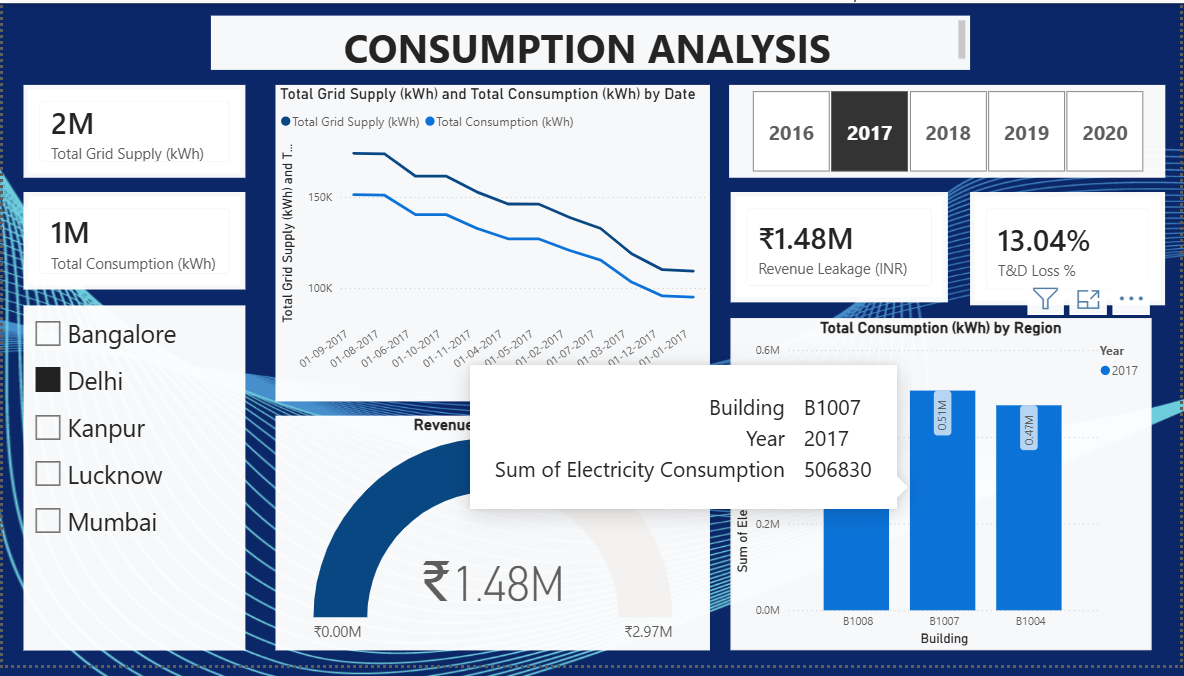

The page's visual inventory and layout, read from the dashboard file:
{"tool":"powerbi","page":{"name":"Page 1","canvas":[1280,720],"ordinal":0},"visuals":[{"type":"slicer","fields":{"Values":["Rates.Year"]},"box":[789.4,89,474.3,101],"z":0},{"type":"slicer","fields":{"Values":["Building Master.City"]},"box":[22.3,328.8,241.4,375],"z":1},{"type":"cardVisual","fields":{"Data":["Measures (2).Total Grid Supply (kWh)"]},"box":[22.3,89,241.4,101],"z":2},{"type":"cardVisual","fields":{"Data":["Measures (2).Total Consumption (kWh)"]},"box":[22.3,205.5,241.4,106.2],"z":3},{"type":"cardVisual","fields":{"Data":["Measures (2).T&D Loss %"]},"box":[1051.4,205.5,212.3,123.3],"z":4},{"type":"cardVisual","fields":{"Data":["Measures (2).Revenue Leakage (INR)"]},"box":[791.1,205.5,236.3,119.9],"z":5},{"type":"lineChart","fields":{"Category":["Energy Consumptions.Date"],"Y":["Measures (2).Total Grid Supply (kWh)","Measures (2).Total Consumption (kWh)"]},"box":[296.2,89,472.6,344.2],"z":6},{"type":"gauge","fields":{"Y":["Measures (2).Revenue Leakage (INR)"]},"box":[296.2,448.6,472.6,255.1],"z":7},{"type":"lineClusteredColumnComboChart","title":"Total Consumption (kWh) by Region","fields":{"Category":["Energy Consumptions.Building"],"Y":["Sum(Energy Consumptions.Electricity Consumption)"],"Series":["Energy Consumptions.Year"]},"box":[791.1,342.5,457.2,361.3],"z":8},{"type":"textbox","box":[226.5,13.8,825.4,59.1],"z":9}]}

Visuals, with their boxes in screenshot pixels (x1, y1, x2, y2), scaled from the page's 1280x720 canvas onto the 1184x676 screenshot:
slicer - Rates.Year: {"left": 730, "top": 84, "right": 1169, "bottom": 178}
slicer - Building Master.City: {"left": 21, "top": 309, "right": 244, "bottom": 661}
cardVisual - Measures (2).Total Grid Supply (kWh): {"left": 21, "top": 84, "right": 244, "bottom": 178}
cardVisual - Measures (2).Total Consumption (kWh): {"left": 21, "top": 193, "right": 244, "bottom": 293}
cardVisual - Measures (2).T&D Loss %: {"left": 973, "top": 193, "right": 1169, "bottom": 309}
cardVisual - Measures (2).Revenue Leakage (INR): {"left": 732, "top": 193, "right": 950, "bottom": 306}
lineChart - Energy Consumptions.Date x Measures (2).Total Grid Supply (kWh): {"left": 274, "top": 84, "right": 711, "bottom": 407}
gauge - Measures (2).Revenue Leakage (INR): {"left": 274, "top": 421, "right": 711, "bottom": 661}
"Total Consumption (kWh) by Region" lineClusteredColumnComboChart: {"left": 732, "top": 322, "right": 1155, "bottom": 661}
textbox: {"left": 210, "top": 13, "right": 973, "bottom": 68}
